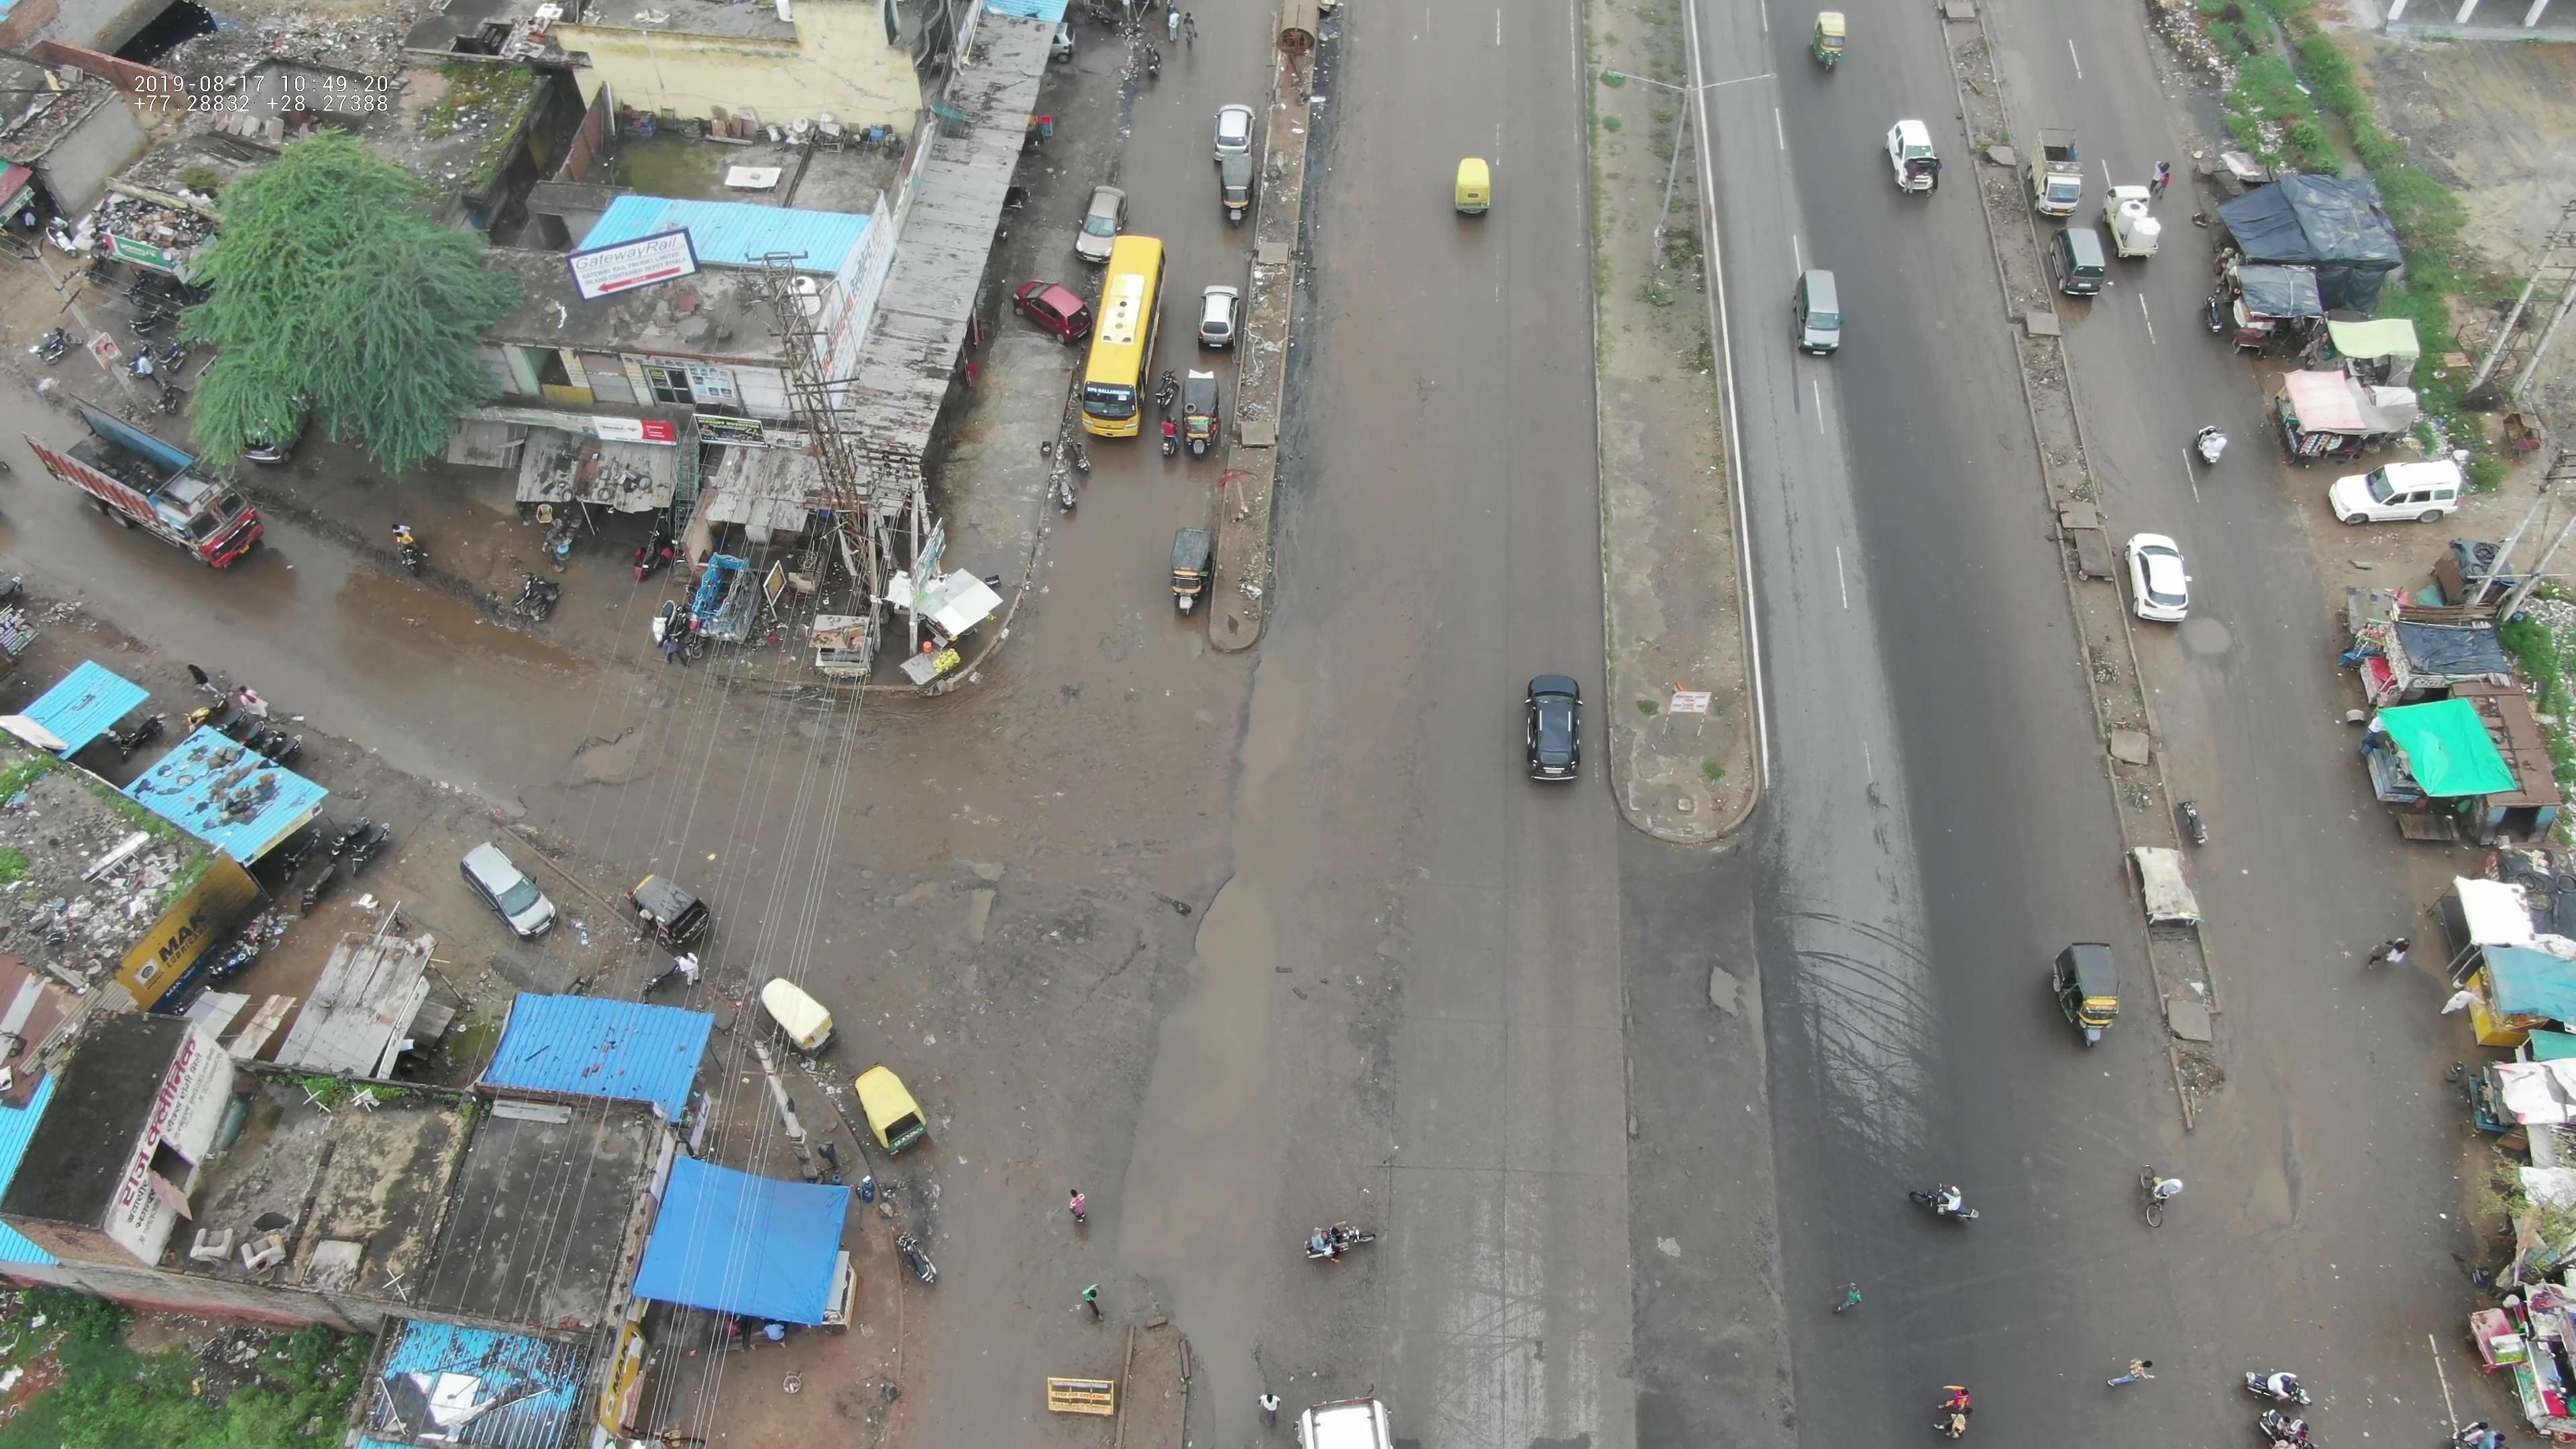Potholes: (540, 679, 713, 816), (985, 874, 1157, 1001), (2229, 1093, 2325, 1247), (2171, 600, 2266, 665)
